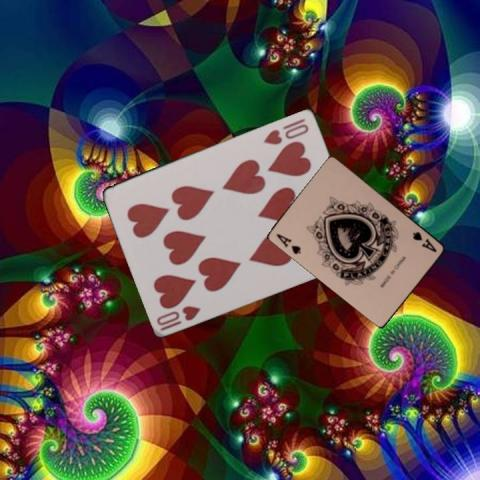10h: (260, 115, 311, 146), (153, 302, 202, 332)
As: (274, 231, 303, 256), (410, 229, 438, 253)
